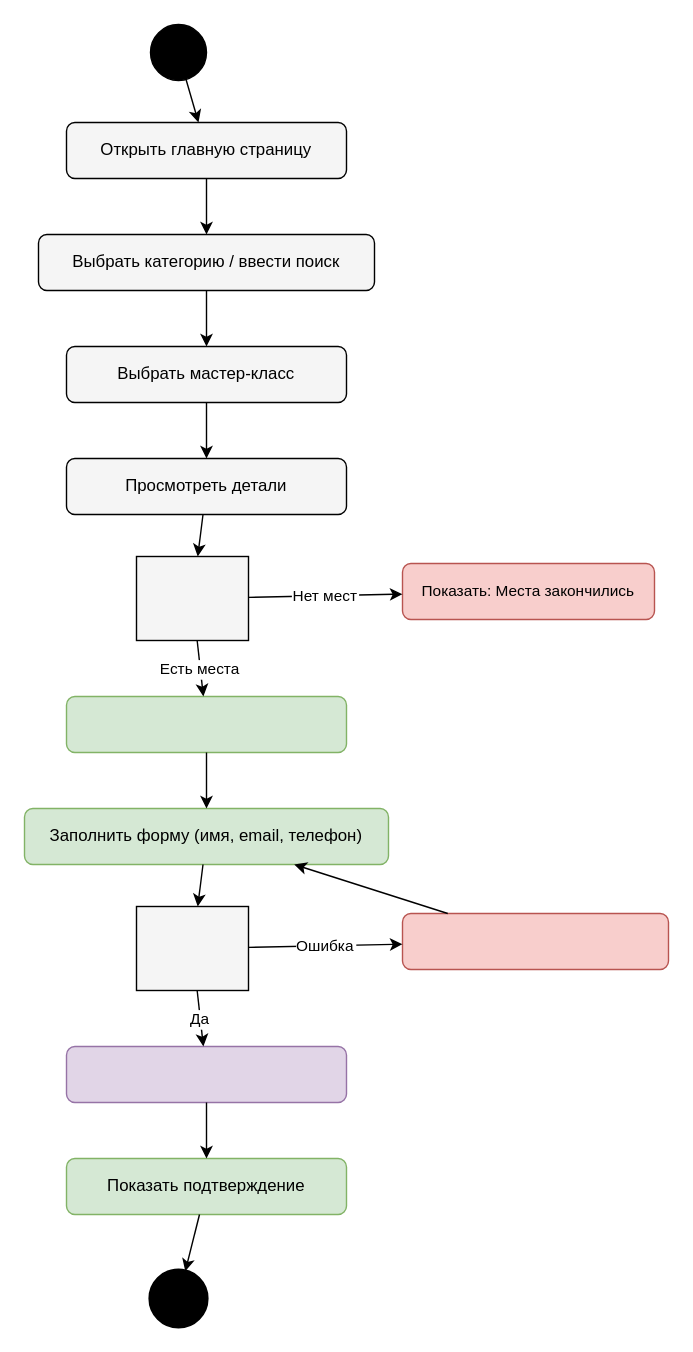
Some shapes in this 693 by 1352 pixel diagram are drawn without their labels. Each missing label, with the centre of its shape:
"Нажать «Записаться»" belongs at (x=205, y=723).
"Показать ошибки валидации" belongs at (x=534, y=940).
"Сохранить запись в БД" belongs at (x=205, y=1073).
